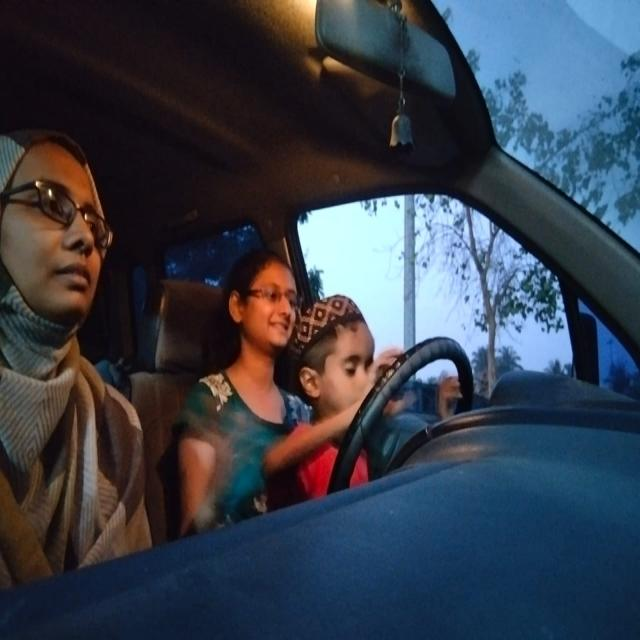child: (300, 280, 388, 411)
person: (3, 120, 118, 376), (225, 224, 309, 369)
